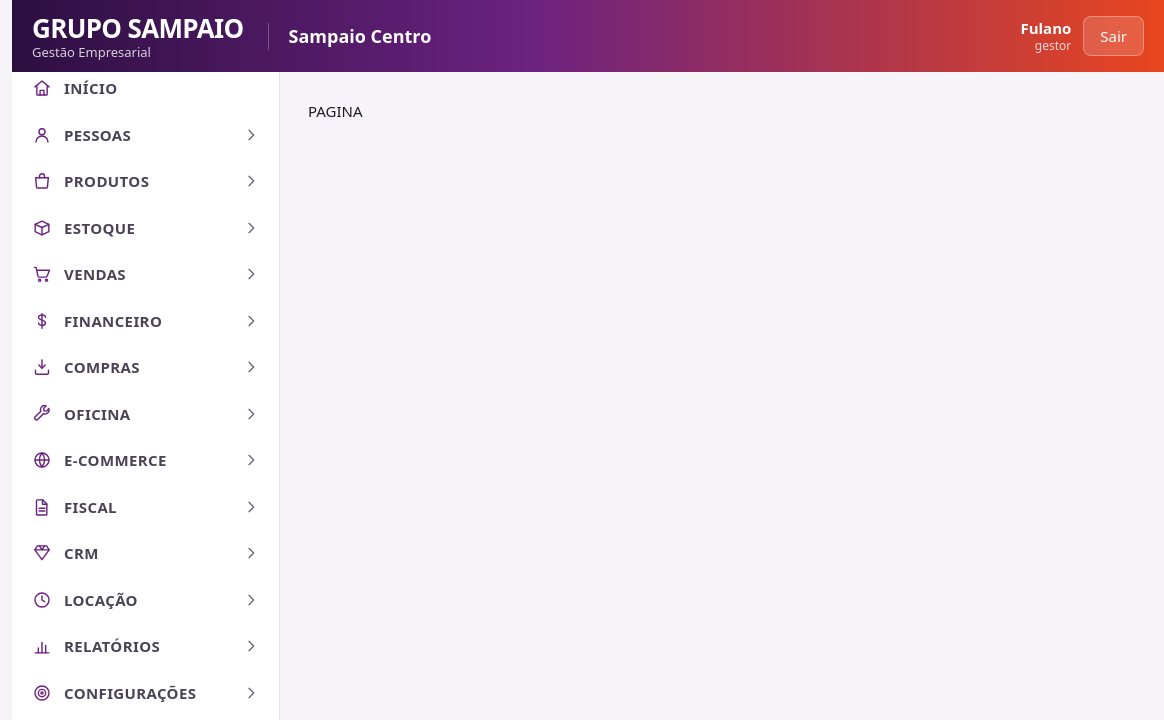
Test: "Empresas do grupo" só aparece para quem o servidor atende › o gestor vê o item
(page scrolled)
Click the button "Configurações" at (146, 693), box x1=12 y1=670 x2=279 y2=716
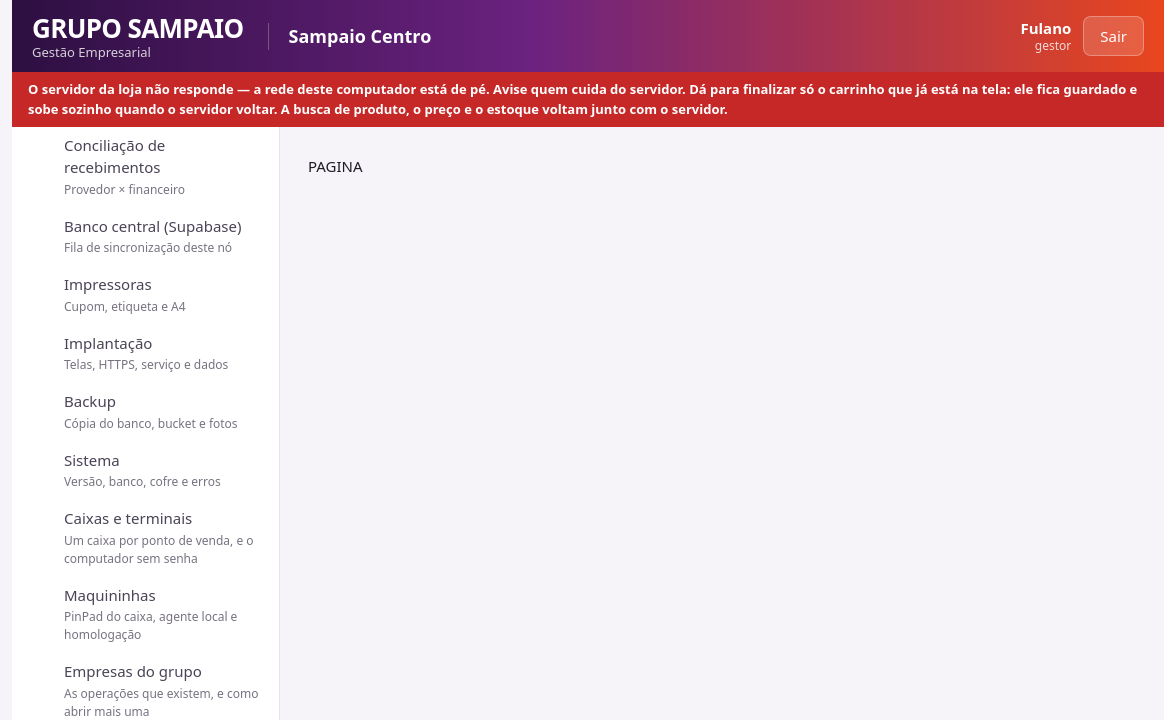
Expected: the text "Empresas do grupo" is shown, x1=64 y1=661 x2=202 y2=681
